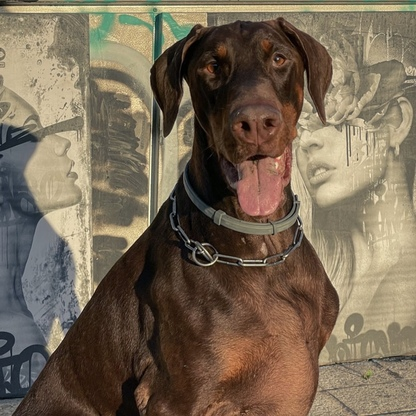doberman: (61, 16, 344, 416)
